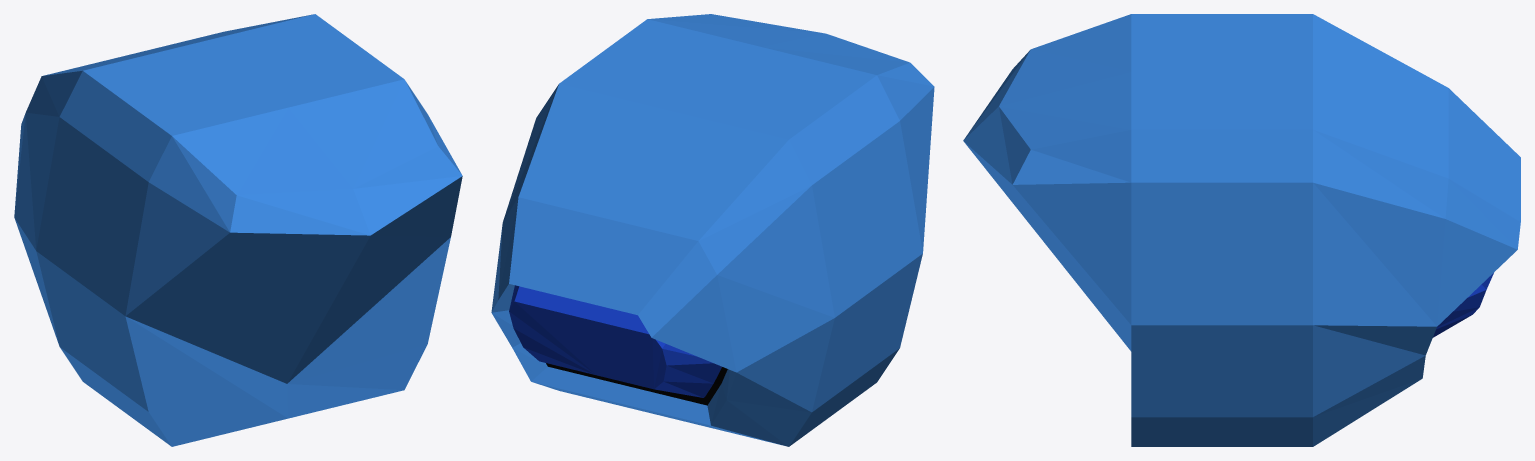
Rendered from robbot2.FBX.
3 views of the same model, side by side, from view 1: azimuth 30°, elevation 25°; view 2: azimuth 150°, elevation 25°; view 3: azimuth 270°, elevation 25° (orthographic). The views are drawn at different scales.
Parts seen in each view (by area): view 1: VIFS003; view 2: VIFS003, VIFS001, VIFS002; view 3: VIFS003, VIFS001.
Boxes of the visible parts, x1,y1,x2,y2 form: VIFS003: (14, 14, 462, 446); VIFS003: (491, 14, 934, 446); VIFS001: (509, 285, 721, 397); VIFS002: (546, 363, 727, 405); VIFS003: (963, 14, 1520, 446); VIFS001: (1433, 273, 1493, 337).
Bounding box in the file's own units: 0.504 × 0.46 × 0.733.
